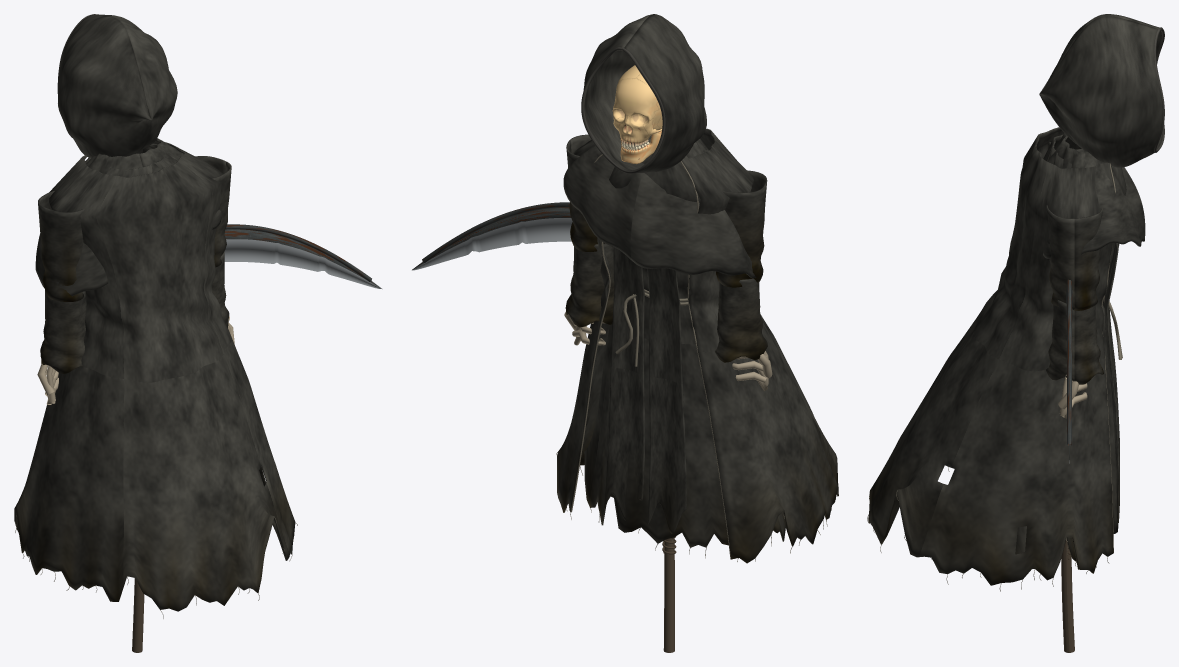
The model's file is guardian-reaper.glb.
3 views of the same model, side by side, from view 1: azimuth 30°, elevation 25°; view 2: azimuth 150°, elevation 25°; view 3: azimuth 270°, elevation 25° (orthographic). The views are drawn at different scales.
Parts seen in each view (by area): view 1: cape, hood, forged_scythe, Upper sleeve -1, shoulder_mantle, Forearm sleeve -1, Upper sleeve 1, Blade spine, staff, robe, Forearm sleeve 1; view 2: cape, robe, shoulder_mantle, hood, Front stole -1, Front stole 1, forged_scythe, anatomical_skull, Forearm sleeve -1, Forearm sleeve 1, Upper sleeve -1, Upper sleeve 1 (+3 smaller); view 3: cape, hood, shoulder_mantle, Upper sleeve 1, Forearm sleeve 1, robe, Front stole 1, staff, Blade spine, Hood folded lip.
Boxes of the visible parts, x1,y1,x2,y2 form: cape: (14,142,295,611); hood: (58,14,177,157); forged_scythe: (224,229,382,289); Upper sleeve -1: (38,191,84,301); shoulder_mantle: (35,138,221,296); Forearm sleeve -1: (40,290,86,373); Upper sleeve 1: (195,156,231,267); Blade spine: (225,224,371,281); staff: (132,578,144,652); robe: (85,143,179,177); Forearm sleeve 1: (212,252,229,327); cape: (557,128,838,563); robe: (584,138,785,547); shoulder_mantle: (563,139,756,278); hood: (583,14,706,173); Front stole -1: (647,268,686,533); Front stole 1: (604,247,644,520); forged_scythe: (412,207,572,270); anatomical_skull: (612,65,662,163); Forearm sleeve -1: (715,278,767,362); Forearm sleeve 1: (565,243,614,327); Upper sleeve -1: (716,170,767,287); Upper sleeve 1: (566,134,612,251); cape: (868,127,1113,585); hood: (1039,14,1162,167); shoulder_mantle: (1043,133,1145,258); Upper sleeve 1: (1046,205,1102,310); Forearm sleeve 1: (1046,300,1103,384); robe: (1015,134,1126,568); Front stole 1: (1104,243,1119,522); staff: (1061,539,1074,652); Blade spine: (1067,279,1071,445); Hood folded lip: (1154,27,1164,152).
Bounding box in the file's own units: 3.5 × 5.65 × 2.4.
Materials: 9 (4 with a texture image).
